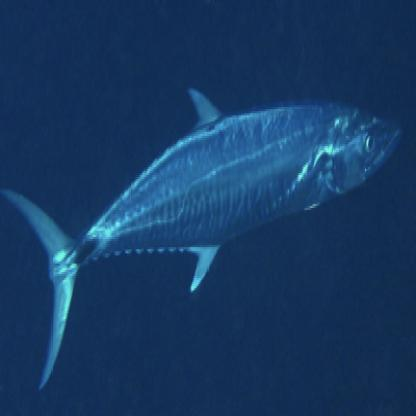tuna: (2, 78, 410, 397)
